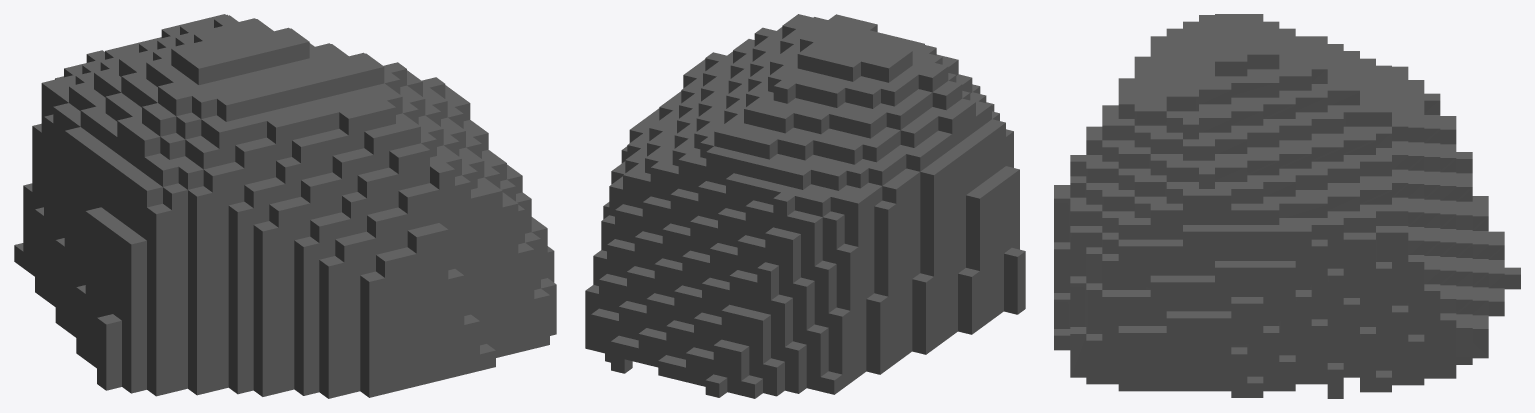
The model's file is rock4.glb.
3 views of the same model, side by side, from view 1: azimuth 30°, elevation 25°; view 2: azimuth 150°, elevation 25°; view 3: azimuth 270°, elevation 25° (orthographic). The views are drawn at different scales.
Parts seen in each view (by area): view 1: geometry_0; view 2: geometry_0; view 3: geometry_0.
Boxes of the visible parts, box(x1,y1,x2,y2) form: geometry_0: box(14, 14, 556, 398); geometry_0: box(585, 14, 1025, 398); geometry_0: box(1054, 14, 1520, 398).
Bounding box in the file's own units: 4.46 × 2.97 × 4.79.
1 material, 1 textured.
